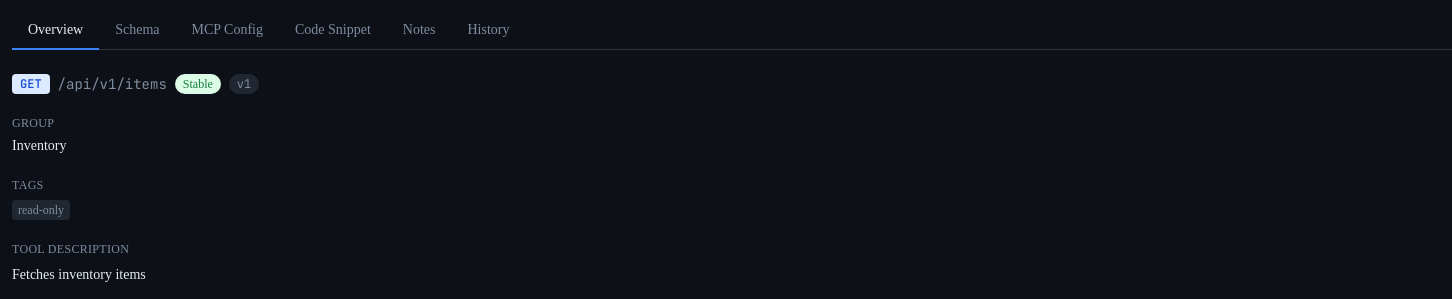
Scenario: ApiDetailTabs › switches to Notes tab and shows notes content
Click the tab "Notes" at (419, 31), box [387,12,452,50]
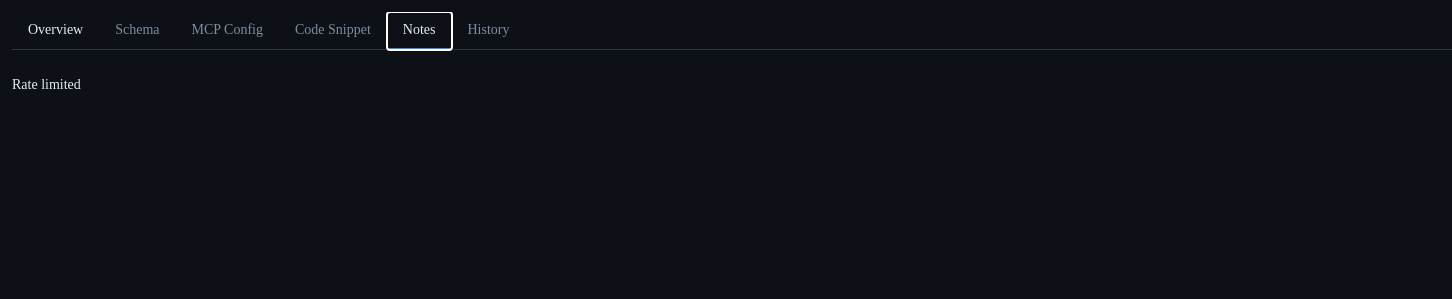
Expected: the text "Rate limited" is shown, [12,77,81,92]
